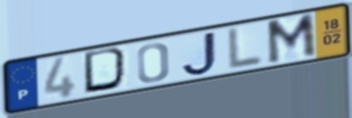0: (135, 42, 171, 84)
4: (42, 54, 81, 101)
D: (82, 45, 132, 95)
J: (180, 29, 220, 79)
L: (226, 25, 265, 73)
M: (264, 11, 319, 67)
